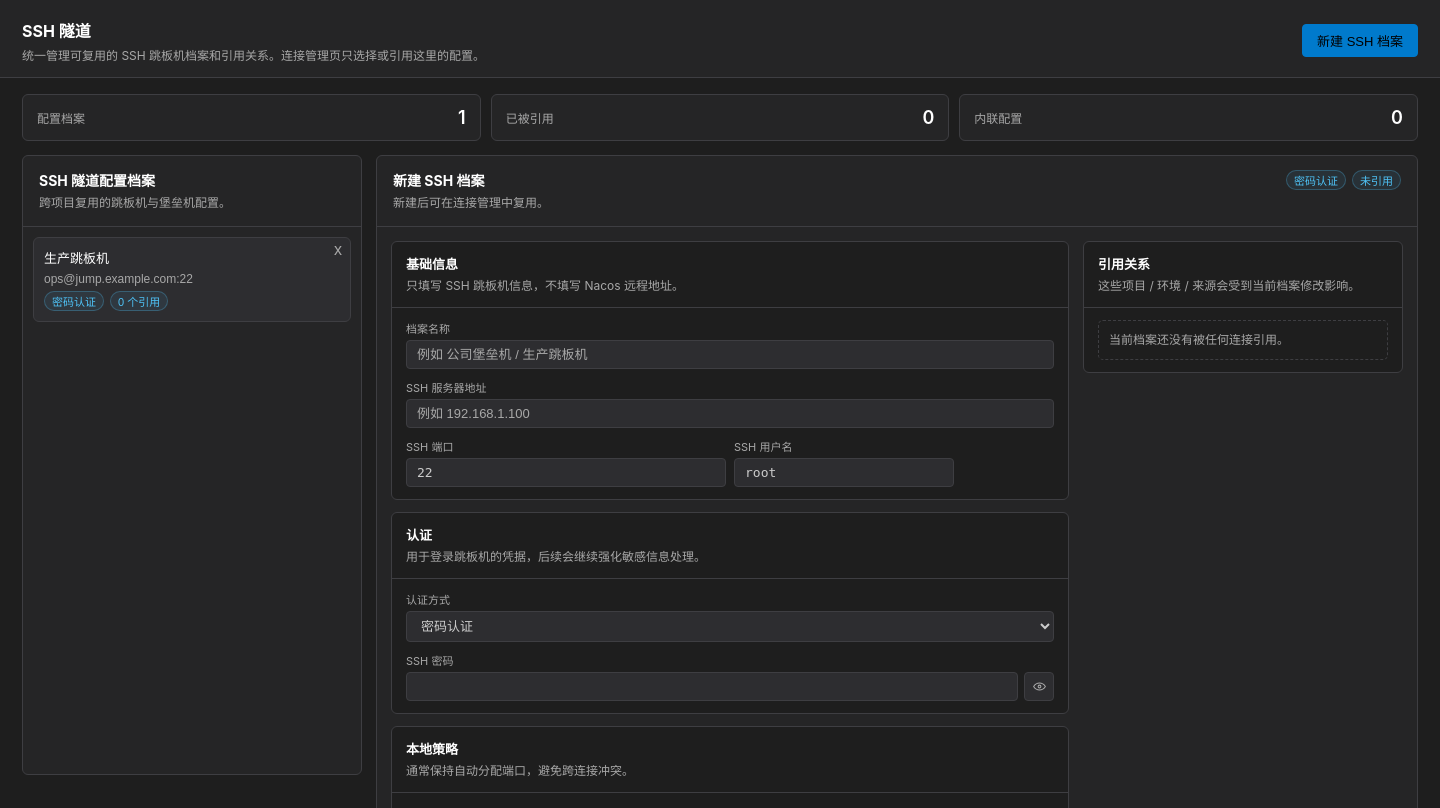
Scenario: SSHManagerView › 迁过凭据的档案回显与保存 › reads the vault value back into the form and says where it came from
What coordinates should you click on to do the following:
click the text "生产跳板机"
I would click on:
 (76, 258)
Its box is [44, 248, 109, 267].
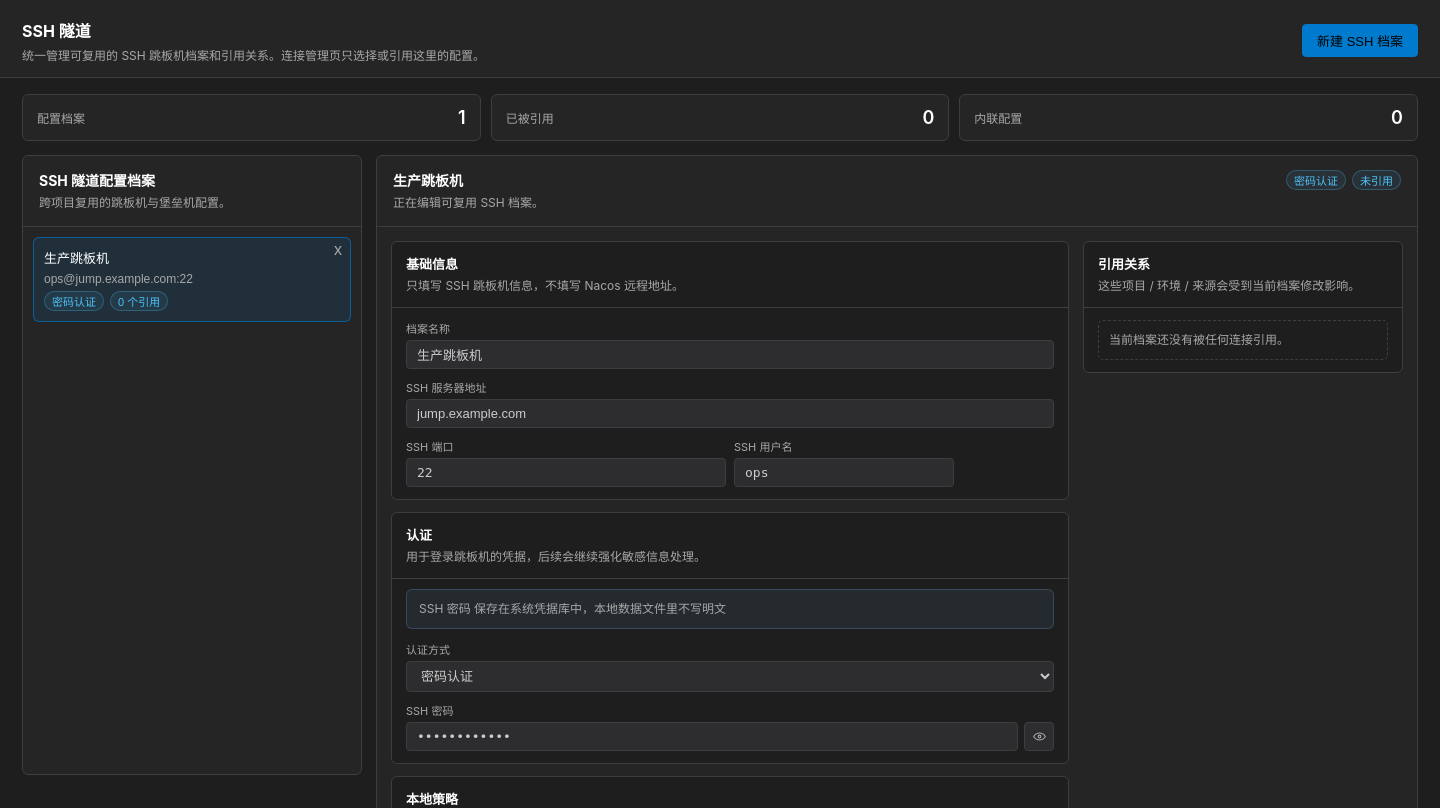
Expected: the password field labelled "SSH 密码" holds "vault-secret", [406, 722, 1018, 751]
Expected: the text "SSH 密码 保存在系统凭据库中，本地数据文件里不写明文" is shown, [406, 589, 1054, 629]
